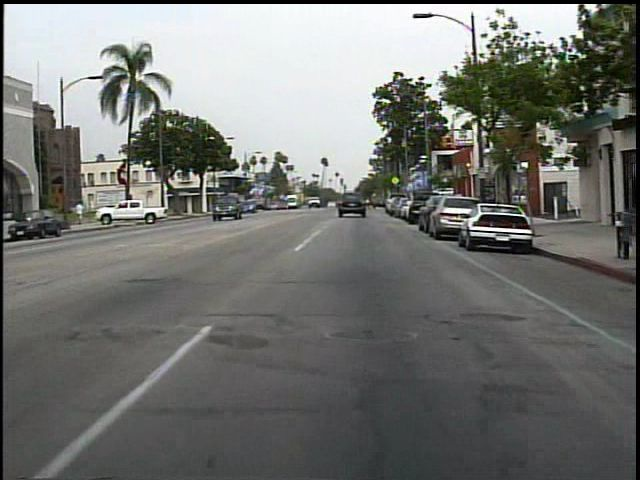person: (76, 199, 89, 227), (372, 190, 381, 213)
